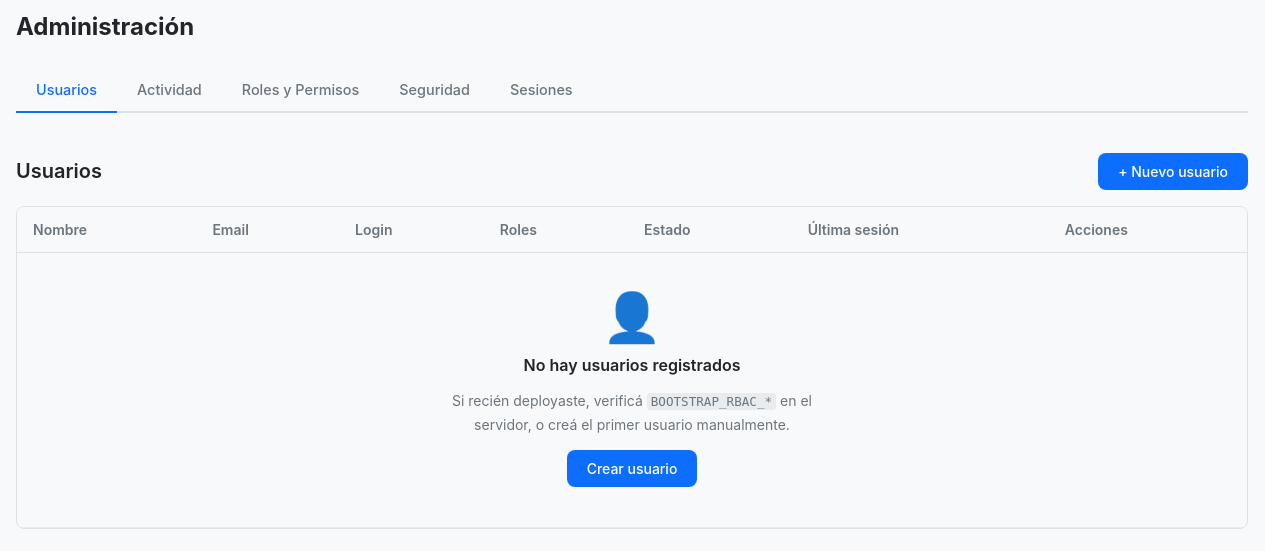
Test: AdminPage › switching to Sesiones tab renders the real session rows
Click the button "Sesiones": (541, 91) [490,69,593,113]
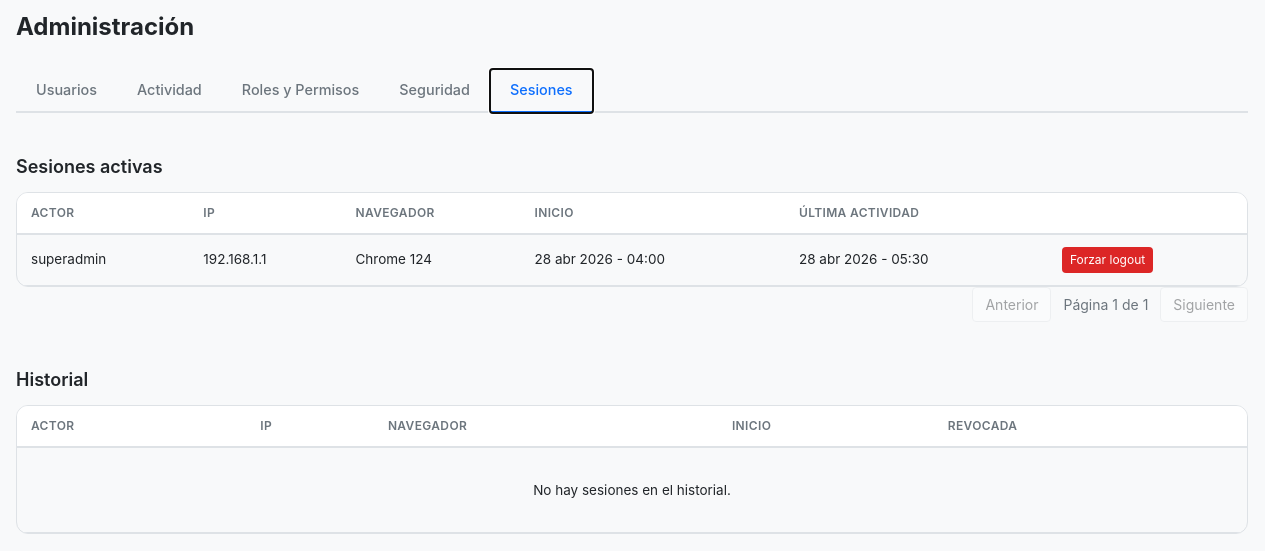
Result: the text "superadmin" is shown at [17,234,189,285]
